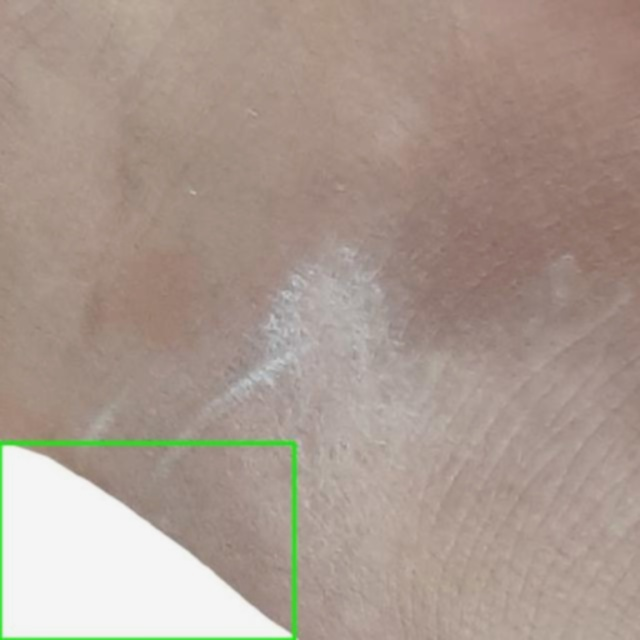Contact Dermatitis: (0, 443, 294, 639)
